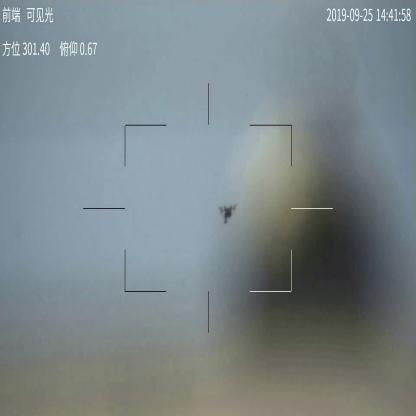uav: (215, 202, 236, 226)
